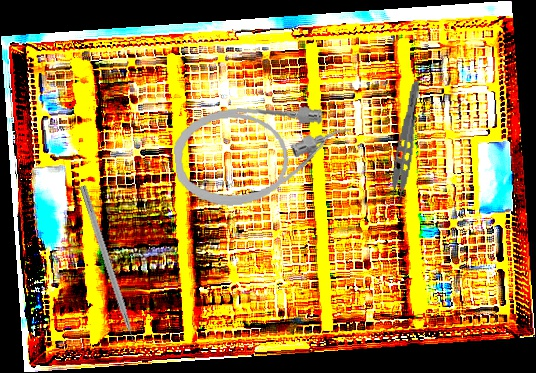Cannula: (170, 97, 357, 211)
Chopper: (70, 184, 141, 359)
Tissue Forceps: (383, 79, 423, 209)
